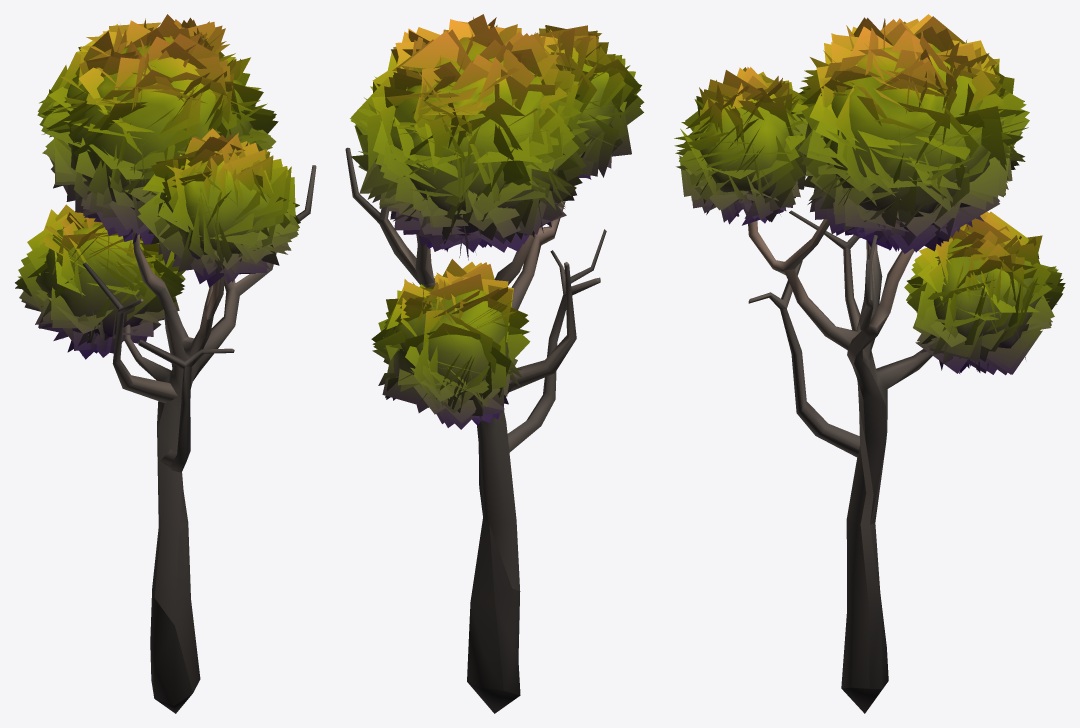
File: Forest_Tree_4A.fbx
3 views of the same model, side by side, from view 1: azimuth 30°, elevation 25°; view 2: azimuth 150°, elevation 25°; view 3: azimuth 270°, elevation 25° (orthographic). The views are drawn at different scales.
Visible parts, largest first — view 1: Forest_Tree_4A; view 2: Forest_Tree_4A; view 3: Forest_Tree_4A.
Boxes of the visible parts, bbox=[...] form: Forest_Tree_4A: bbox=[15, 14, 316, 713]; Forest_Tree_4A: bbox=[345, 14, 644, 713]; Forest_Tree_4A: bbox=[674, 14, 1065, 713].
Size of the model in its own units: 240 by 647 by 333.
